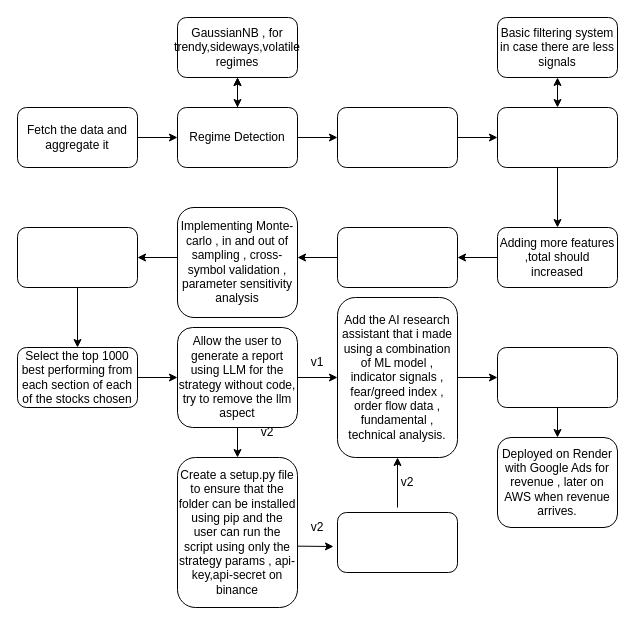
This 635x625 diagram has some shape labels left out. Each missing label, with the box of its shape:
Backtesting of all those strategies 2-5 features , tp/sl etc: (336, 226, 458, 288)
Code generation option using LLM: (336, 512, 458, 572)
Create a more advance filtering system, based on previous parameters: (16, 226, 138, 288)
Generation of about 1million strategies: (496, 106, 618, 168)
Splitting of the data: (336, 106, 458, 168)
Web Dashboard using FastAPI: (496, 346, 618, 408)
